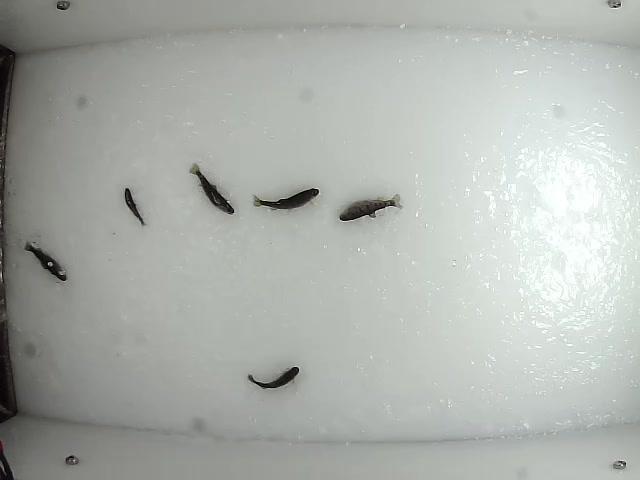fish: (331, 191, 404, 224), (186, 163, 234, 213), (249, 184, 324, 213), (21, 238, 68, 284), (246, 363, 302, 390), (122, 188, 146, 221)
